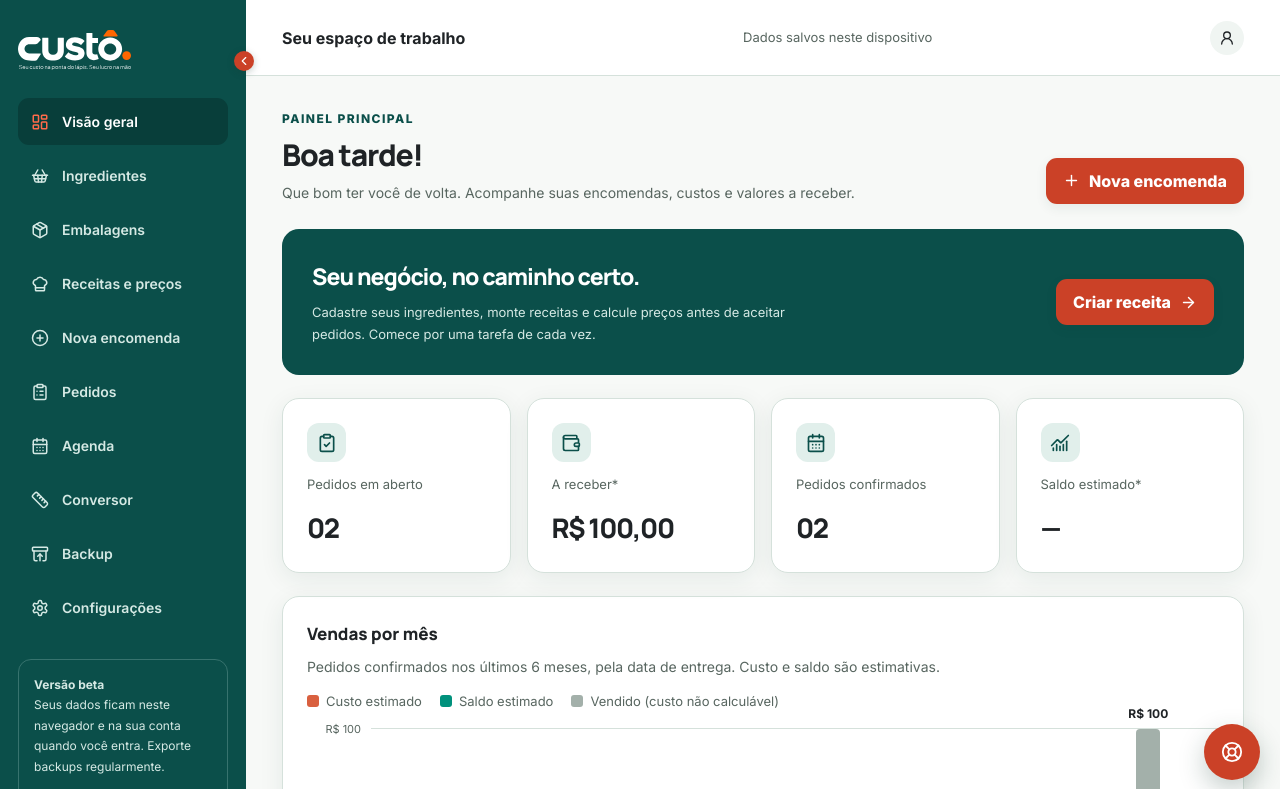
telas › Agenda: calendário com contagem por dia; clicar no dia mostra os pedidos dele
Later steps or results of the test are not shown.
What coordinates should you click on to do the following:
click the button "Agenda"
I would click on:
 (123, 446)
Its box is [18, 422, 228, 469].
(page scrolled)
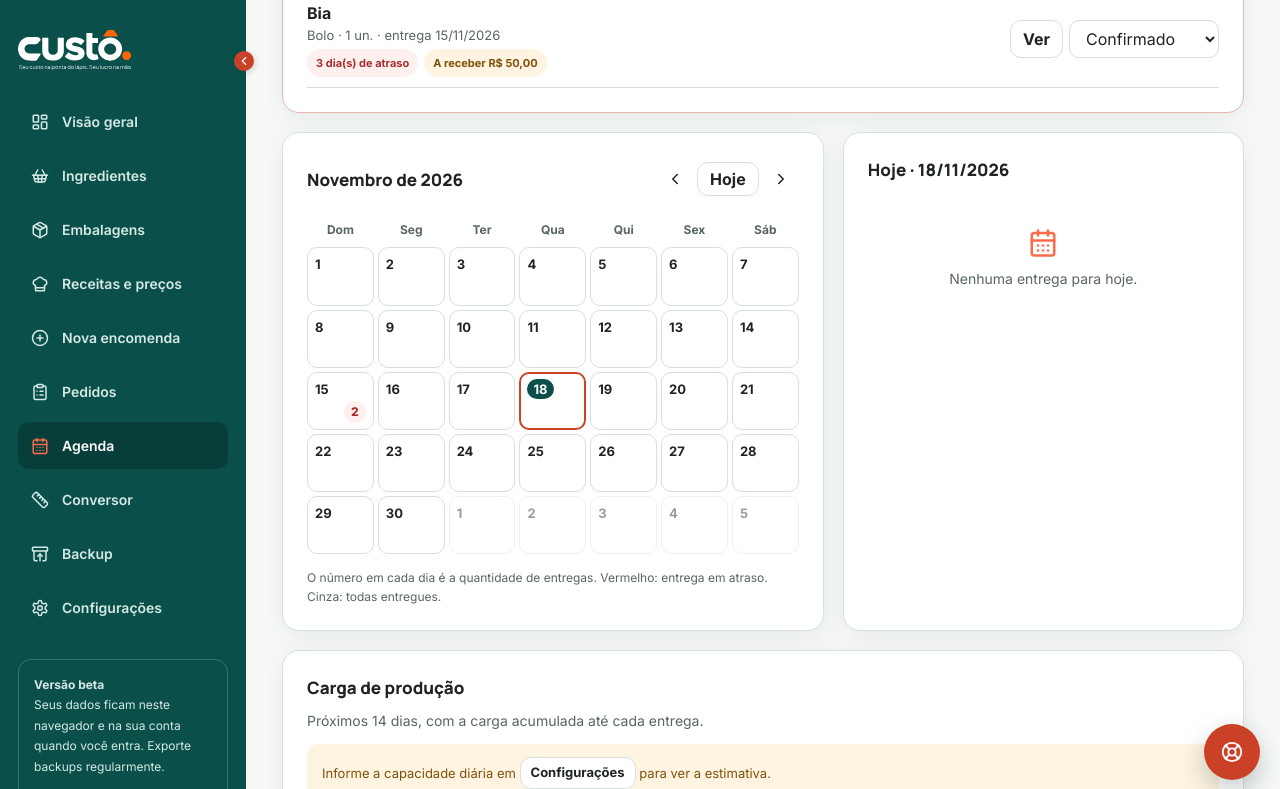
Now the table named "Calendário de entregas" is shown, box [303, 214, 803, 558]
Now the text "Nenhuma entrega para hoje." is shown, box [949, 228, 1137, 287]
